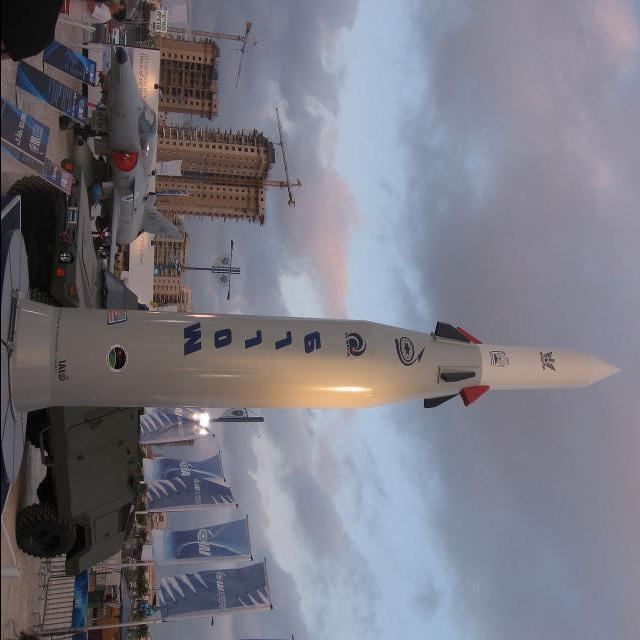missile: (4, 287, 633, 457)
